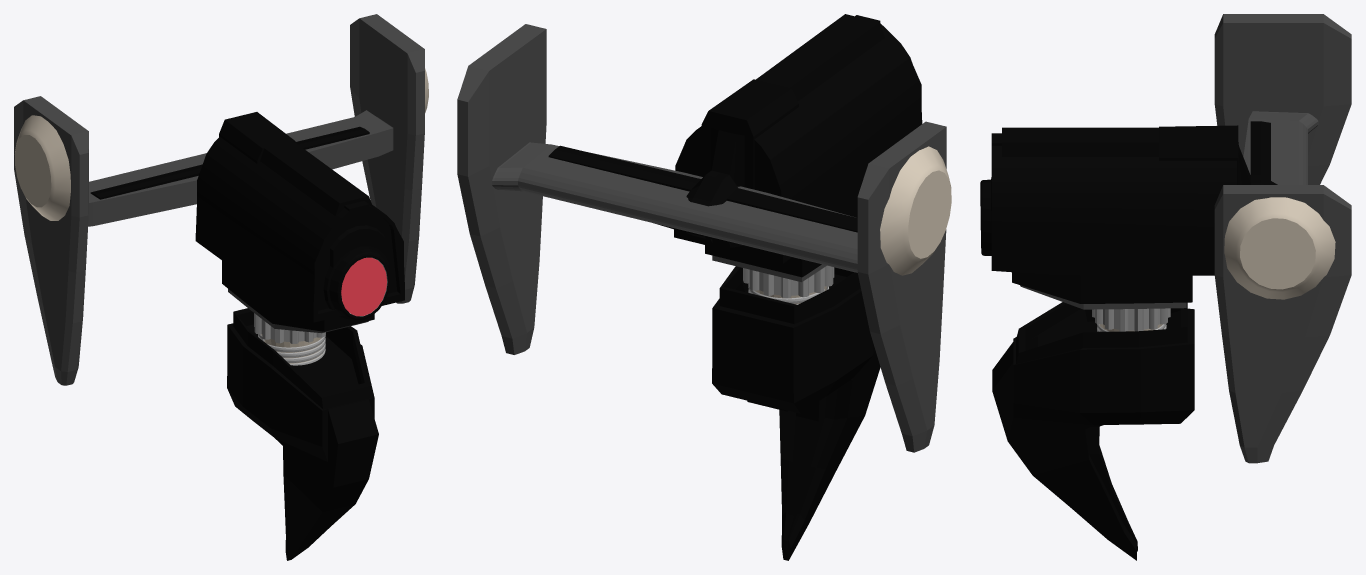
Rendered from DroneModel.fbx.
3 renders of one model, left to right at view 1: azimuth 30°, elevation 25°; view 2: azimuth 150°, elevation 25°; view 3: azimuth 270°, elevation 25°, orthographic. The views are drawn at different scales.
Parts seen in each view (by area): view 1: polySurface377; view 2: polySurface377; view 3: polySurface377.
Part boxes in pixels (x1,y1,x2,y2): polySurface377: (14,14,428,560); polySurface377: (457,14,951,560); polySurface377: (980,14,1351,560).
Bounding box in the file's own units: 7.93 × 8.78 × 6.48.
